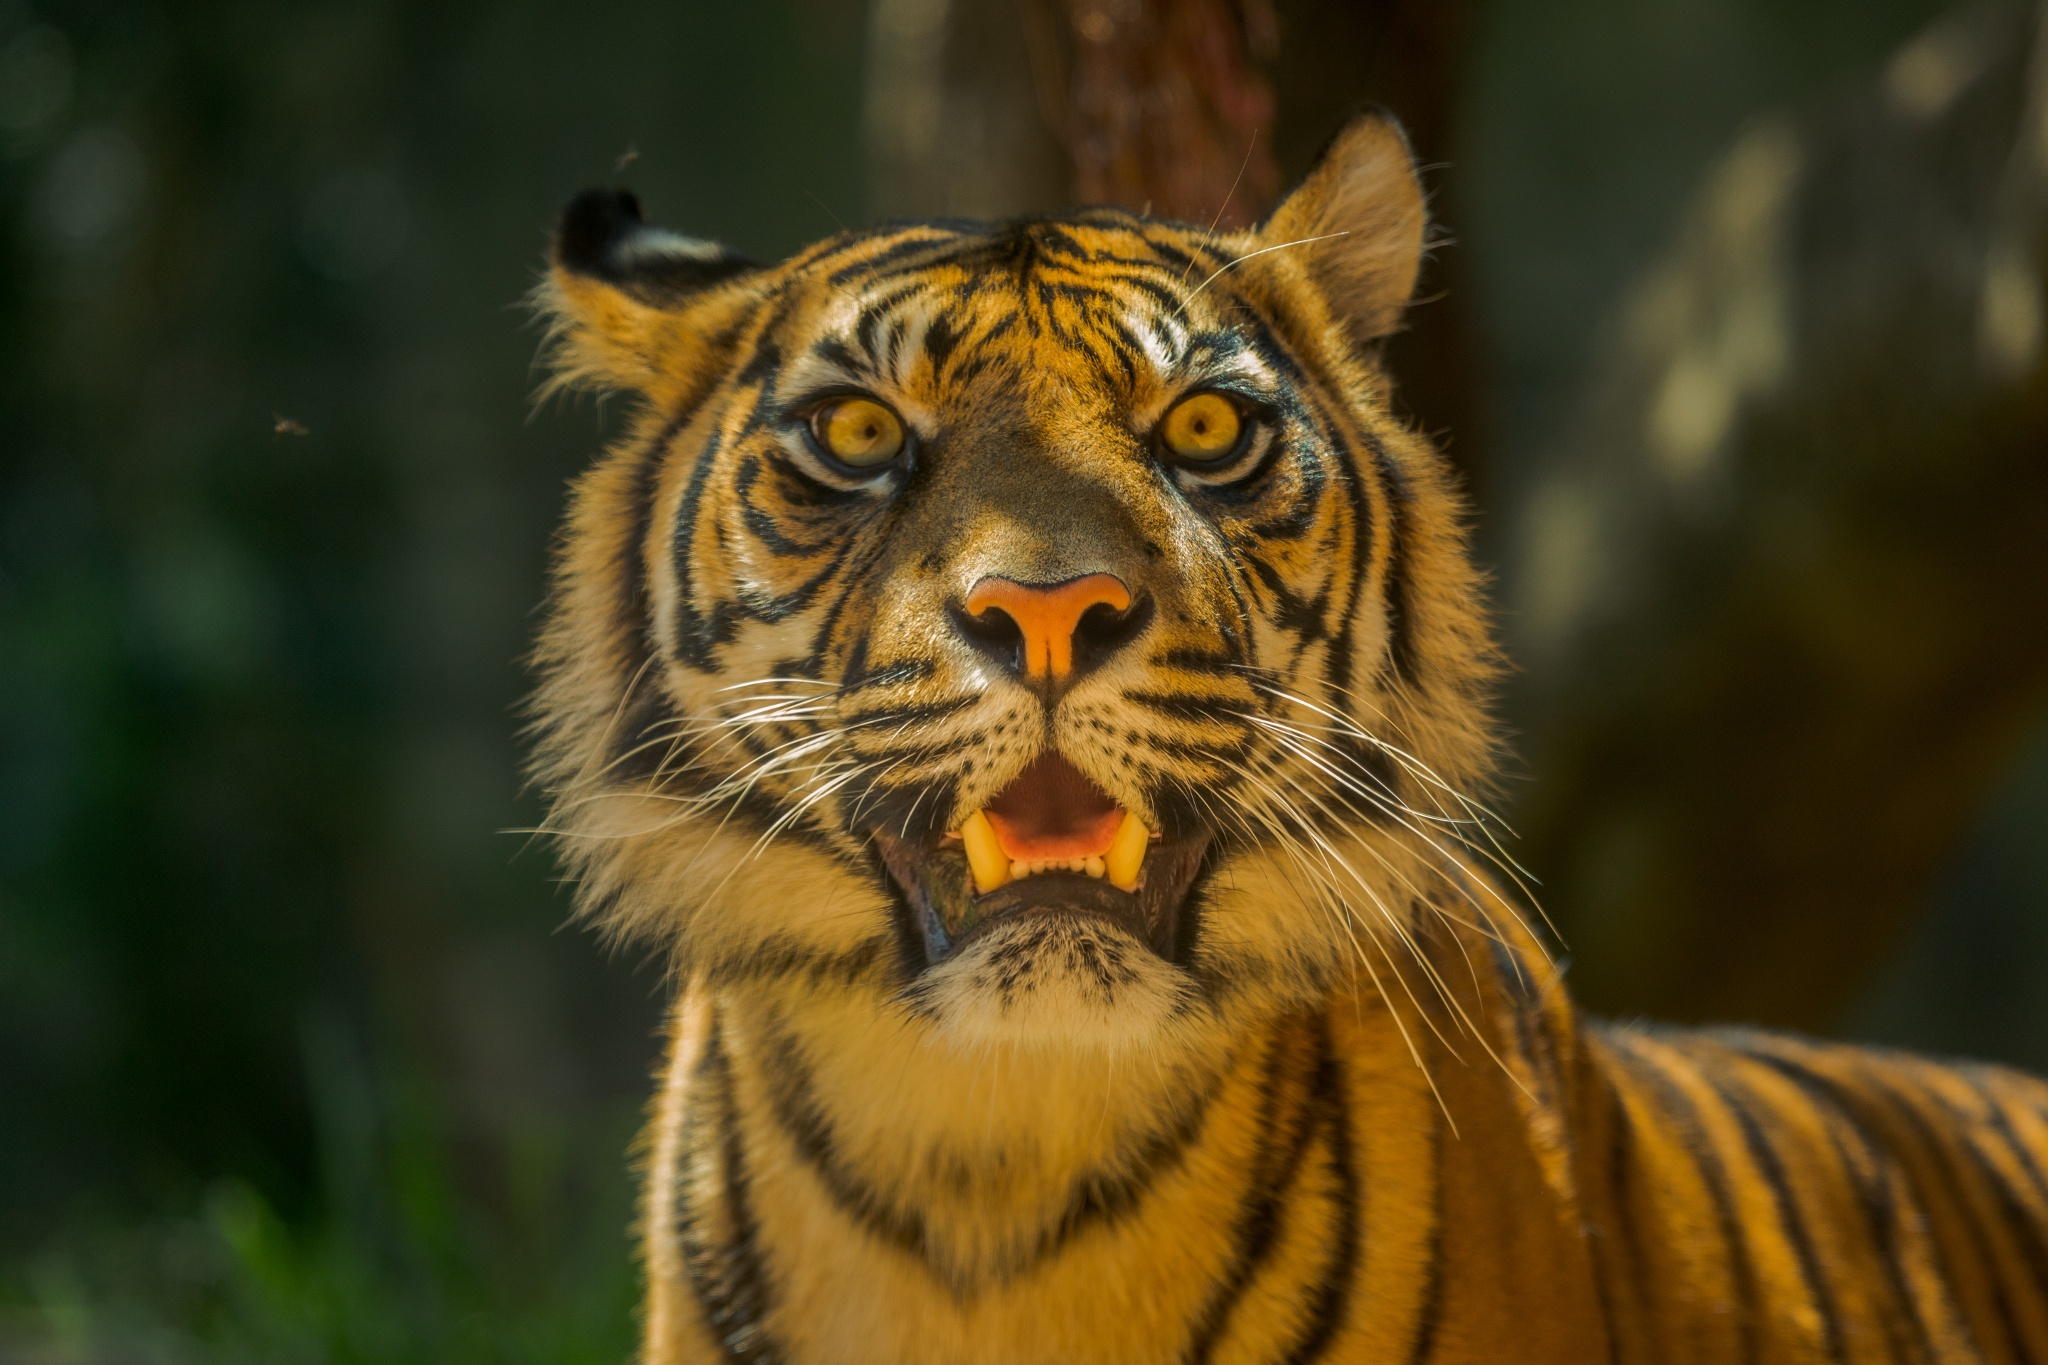tiger: (512, 152, 1957, 1322)
